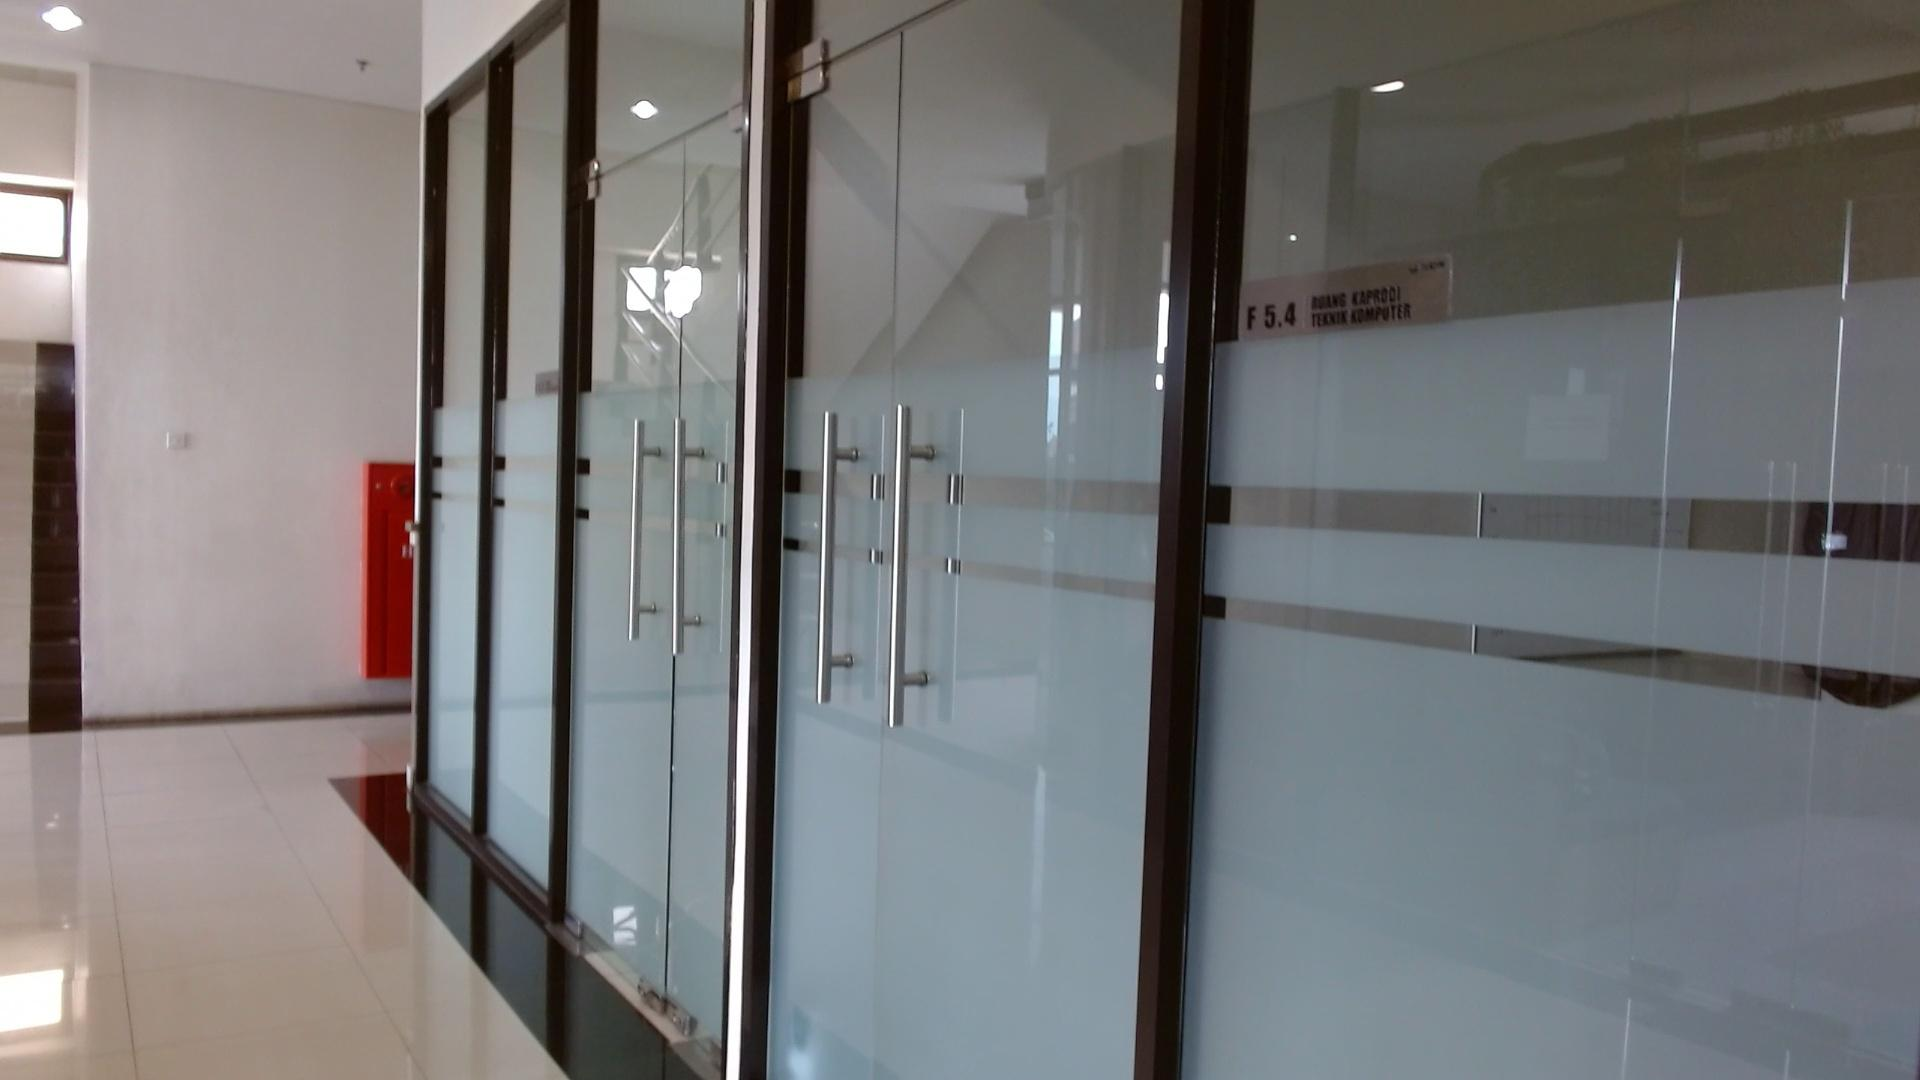plate: (1238, 251, 1453, 343)
